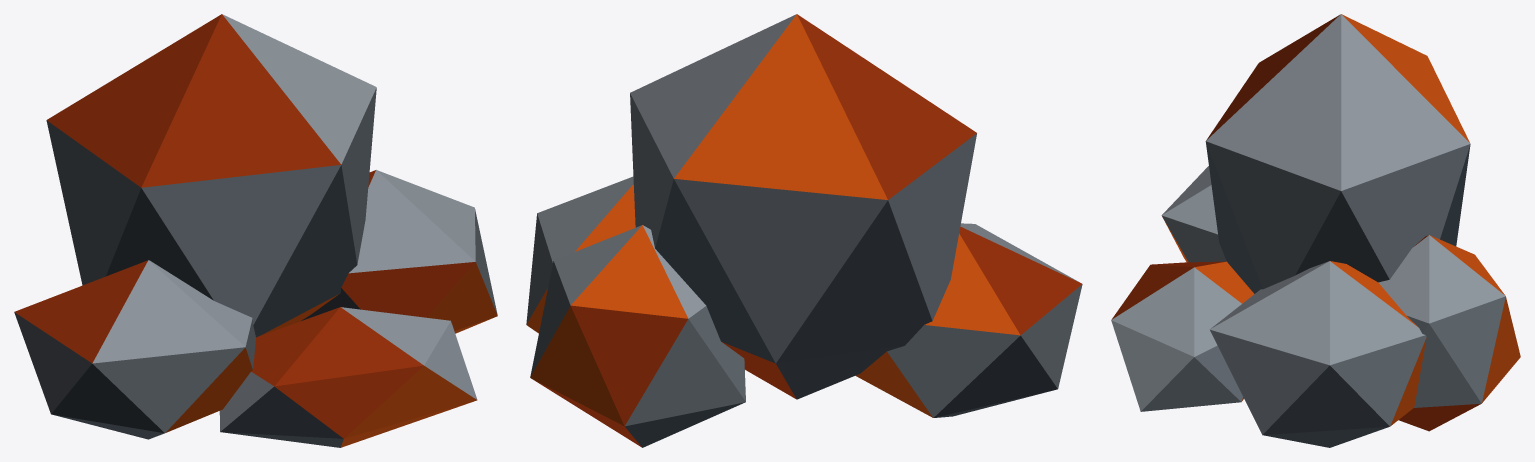
The model's file is node-metal-lod1.glb.
The picture shows the model from 3 angles, left to right: view 1: azimuth 30°, elevation 25°; view 2: azimuth 150°, elevation 25°; view 3: azimuth 270°, elevation 25°; orthographic projection. The views are drawn at different scales.
Visible parts, largest first — view 1: node-metal-stone; view 2: node-metal-stone; view 3: node-metal-stone.
Part boxes in pixels (left/top/right/bottom): node-metal-stone: left=14, top=14, right=497, bottom=447; node-metal-stone: left=526, top=14, right=1082, bottom=447; node-metal-stone: left=1111, top=14, right=1520, bottom=447.
Size of the model in its own units: 2.21 by 1.82 by 1.81.
